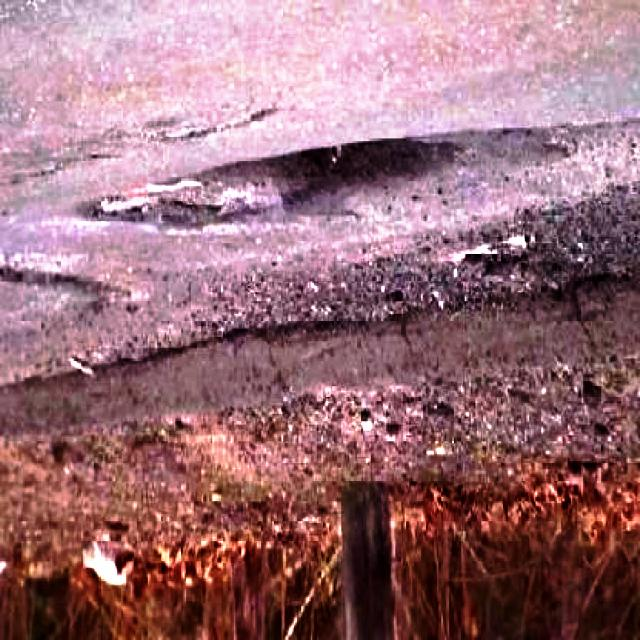pothole: (72, 122, 640, 229), (0, 263, 129, 320)
